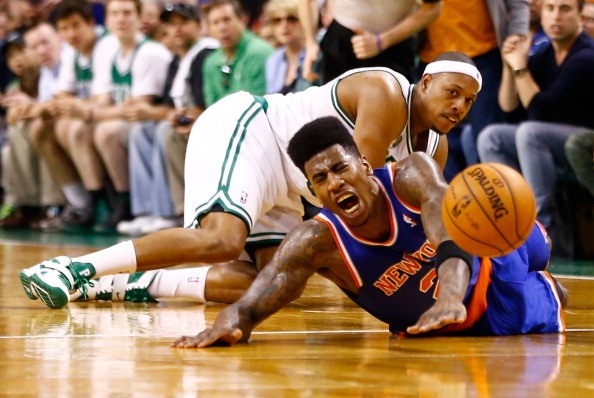10+: (5, 8, 594, 324)
down: (18, 49, 485, 309), (176, 115, 572, 353)
